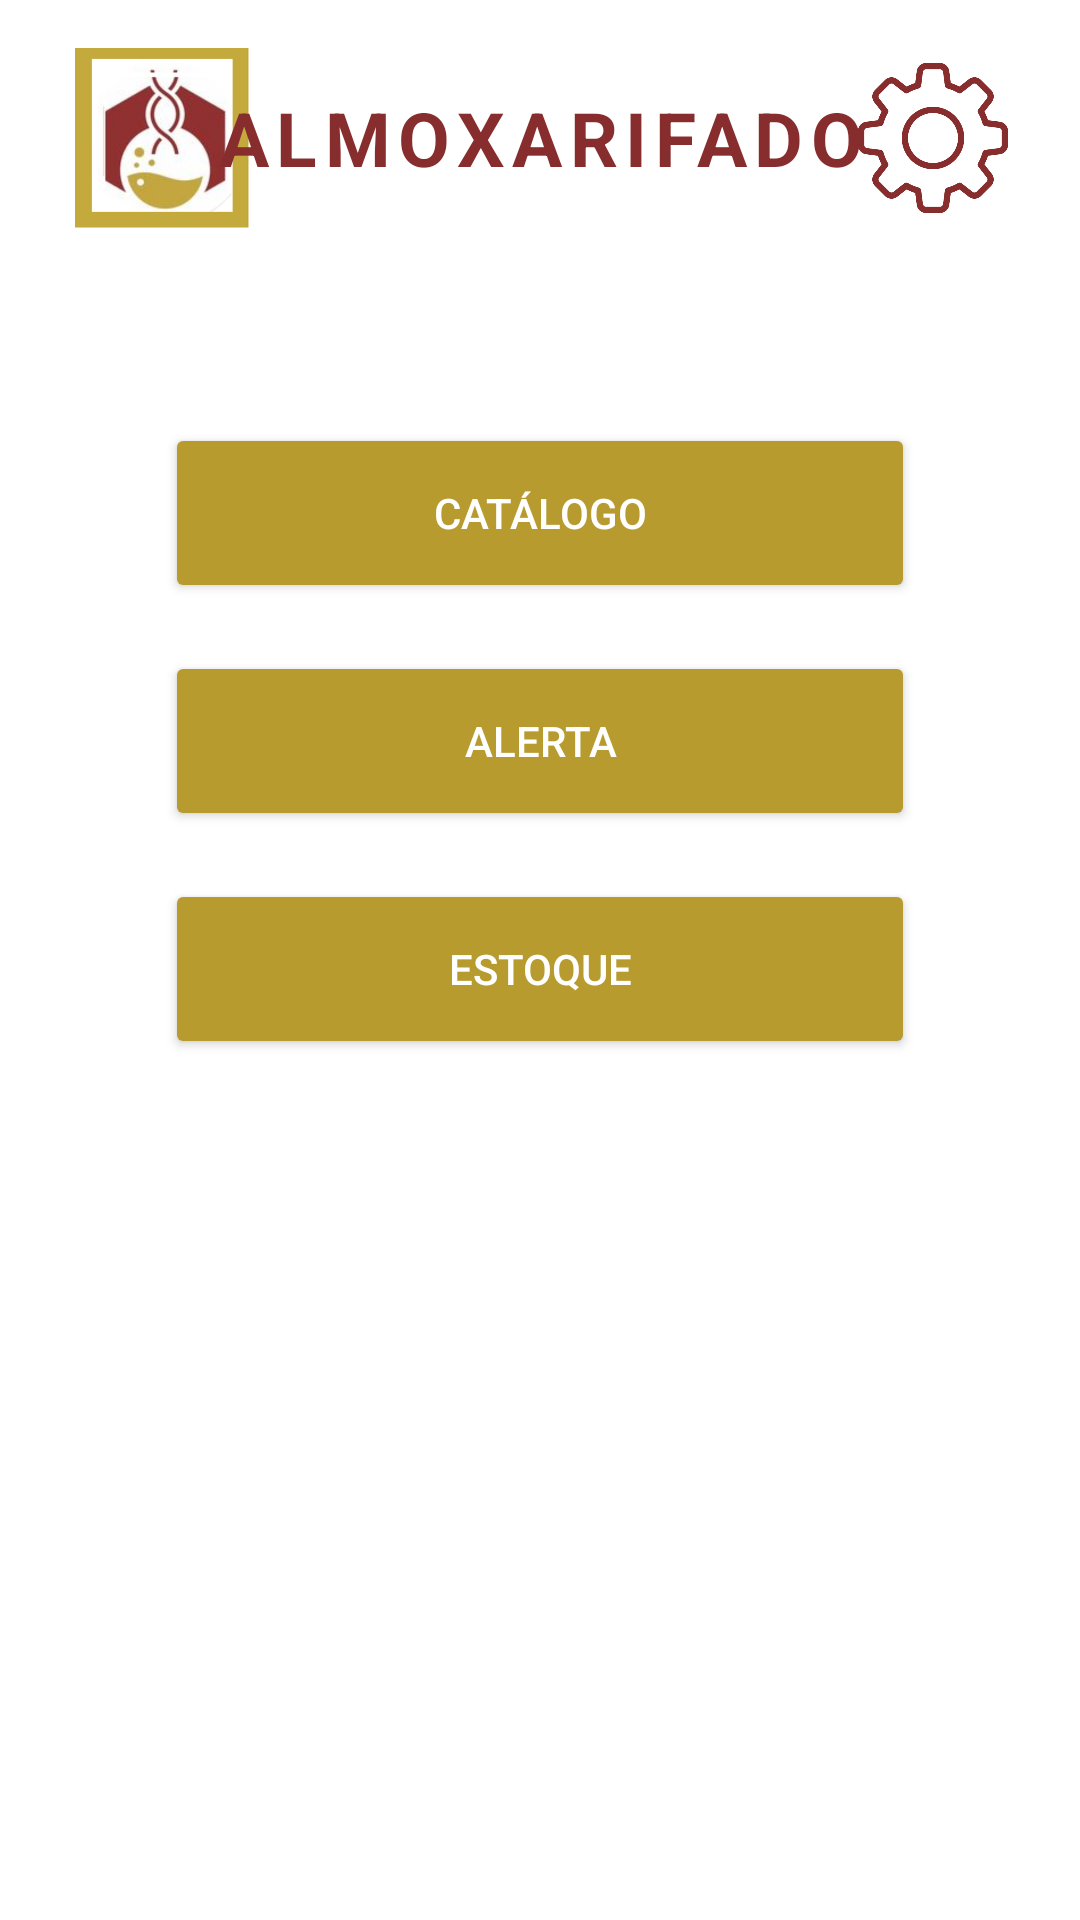

Icon click points for this 1080×1920 phone screenshot, format (x,y):
Configurações: (933,138)
